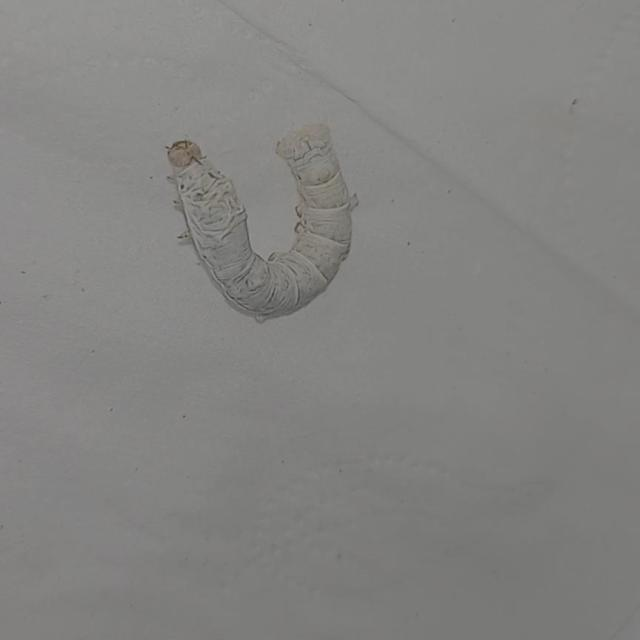Healthy: (157, 108, 364, 324)
